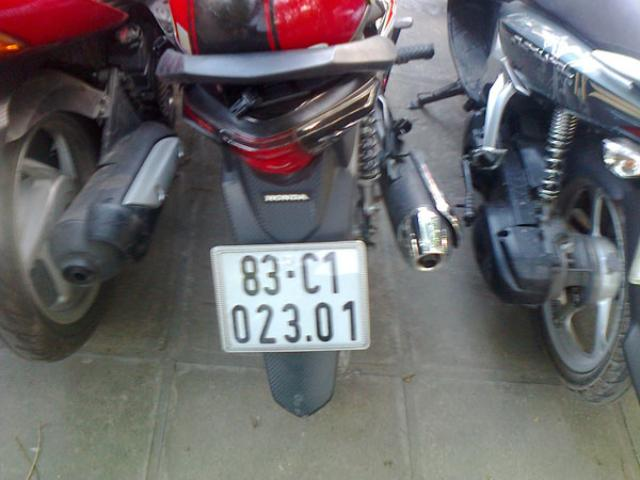plate: (211, 246, 361, 348)
